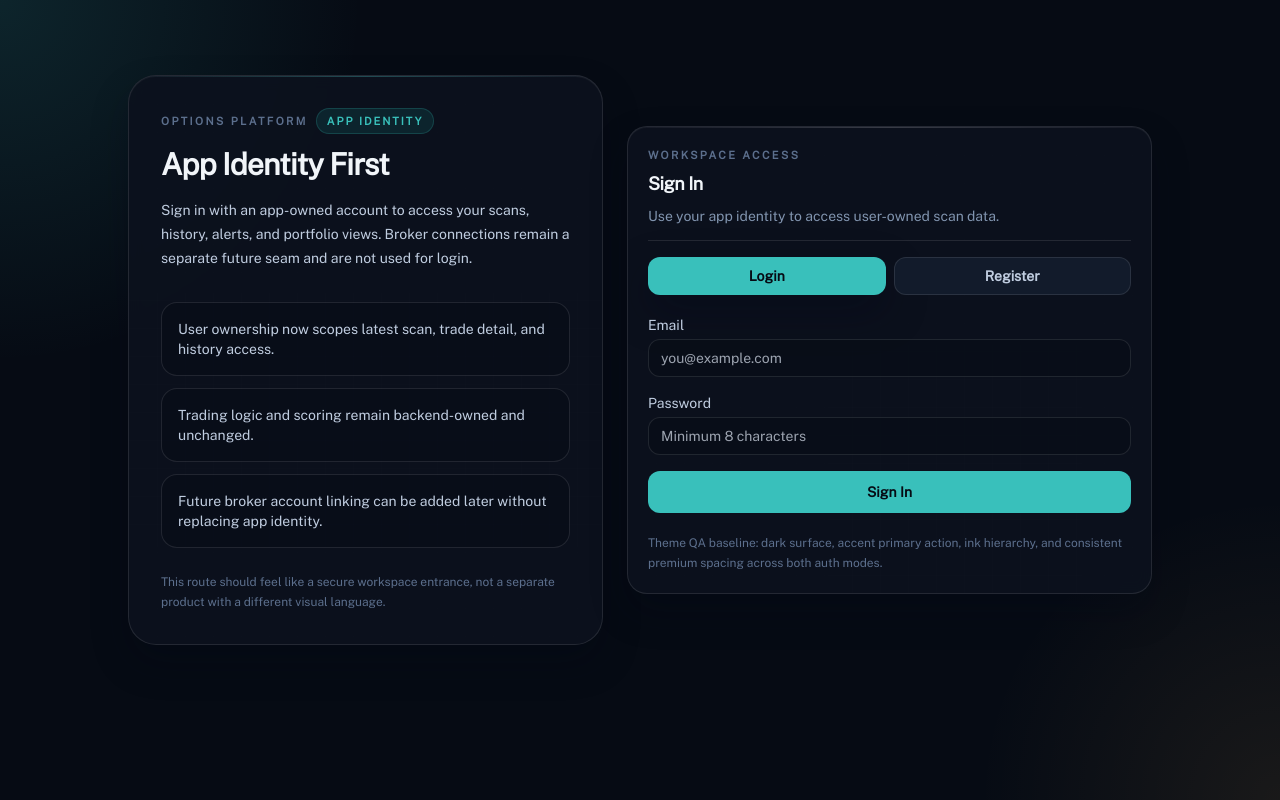
LoginPage › switches visual state cleanly between login and register modes
The width and height of the screenshot is (1280, 800).
Click the button with test id "register-mode-button" at (1012, 276), box [894, 257, 1131, 295]
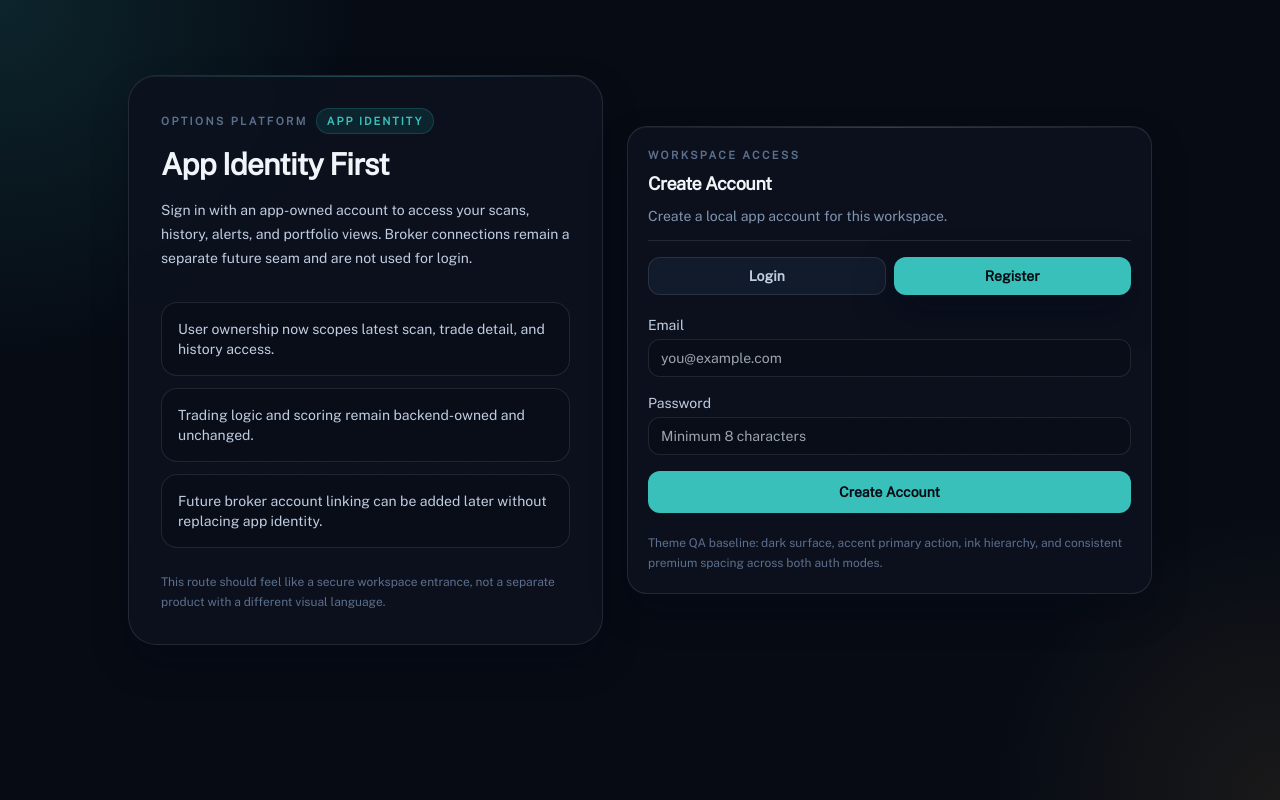
Check: the heading "Create Account" is shown, box [648, 173, 772, 194]
